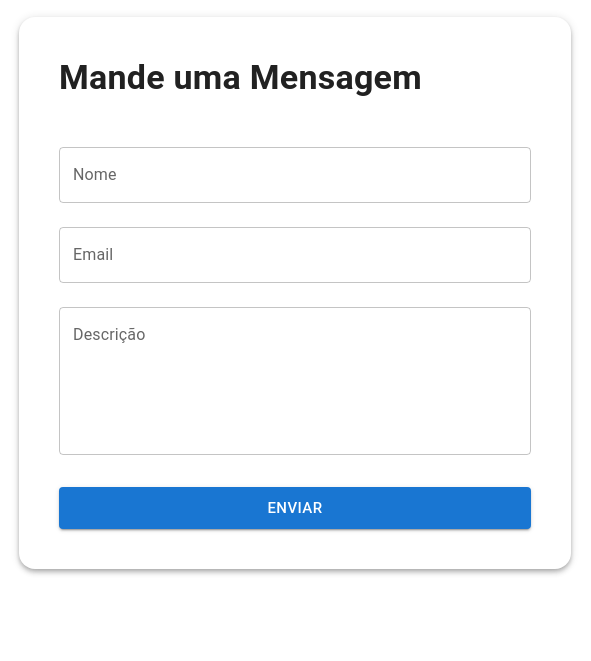
Test: ContactForm Component › should show invalid email message
This screenshot has width=591, height=661.
Step 1. Type "emailinvalido" into the field labelled "Email" → (295, 255), box [59, 227, 531, 283]
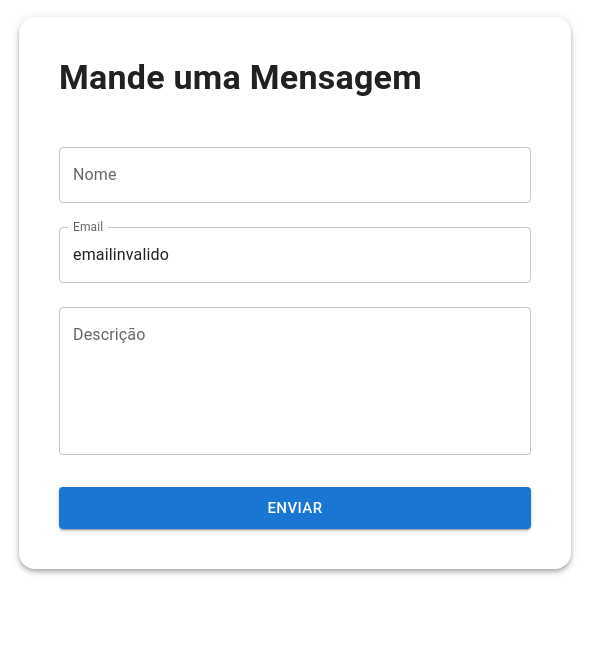
Step 2. Click the button "Enviar" → click(295, 508), box [59, 487, 531, 529]
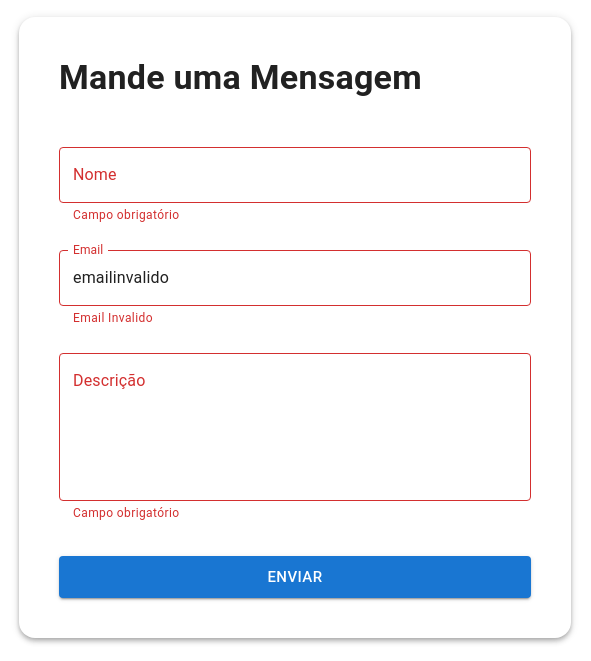
expect the text "Email Invalido" is shown: met, box [73, 311, 153, 325]
